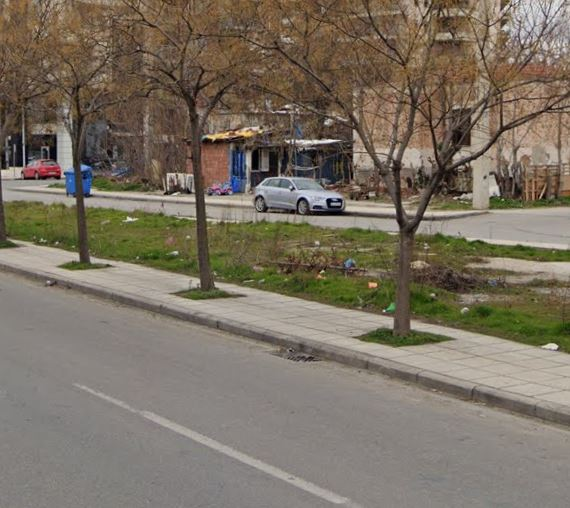trash: (278, 237, 378, 292), (31, 232, 74, 249), (536, 338, 564, 354), (165, 241, 184, 261), (116, 214, 137, 227)
